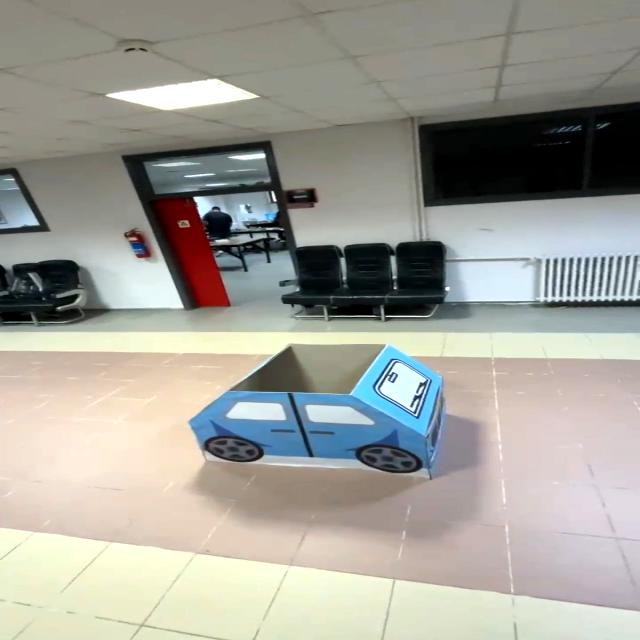blue_car: (164, 326, 454, 504)
